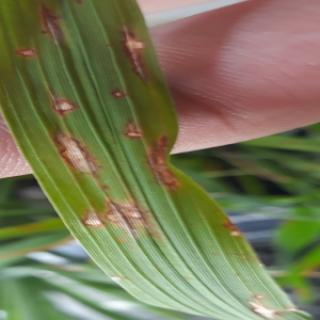Blast: (45, 92, 99, 180), (79, 198, 157, 236), (22, 0, 78, 46)
